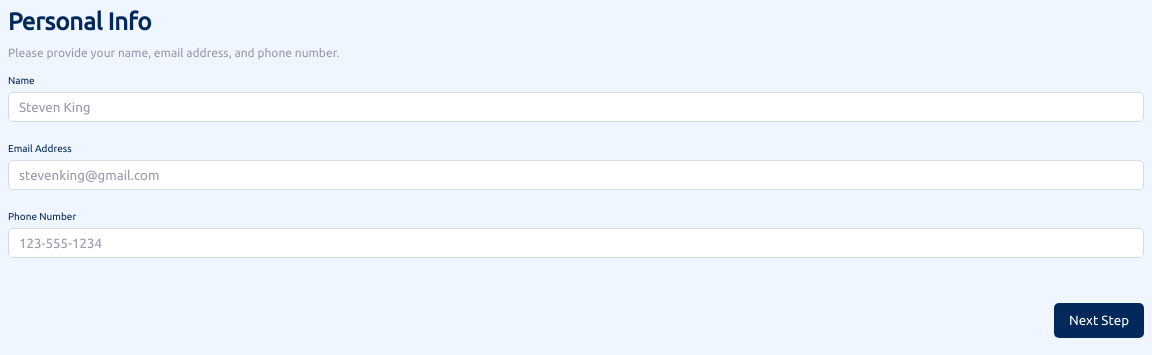
contact › should display three alerts for the empty required fields after clicking next
Click the button "Next Step". click: (1099, 320)
box: [1054,303,1144,338]
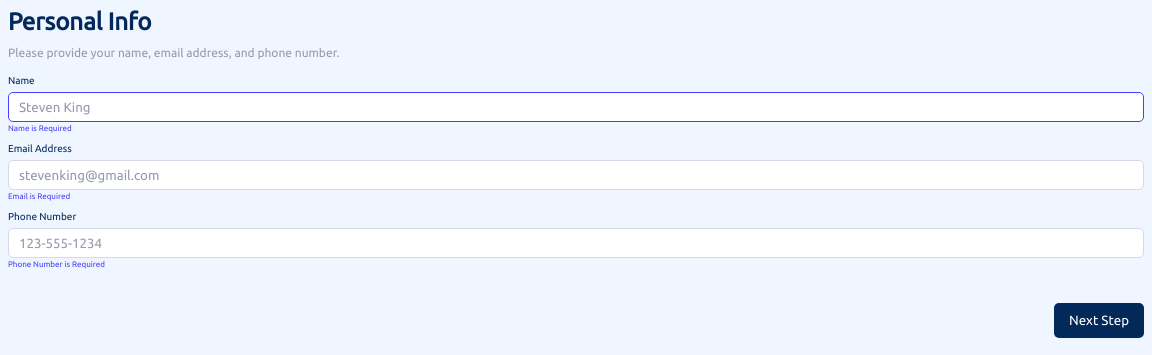
Expected: the message "Name is Required" is shown, [8,124,72,133]
Expected: the message "Email is Required" is shown, [8,192,70,201]
Expected: the message "Phone Number is Required" is shown, [8,260,105,269]
